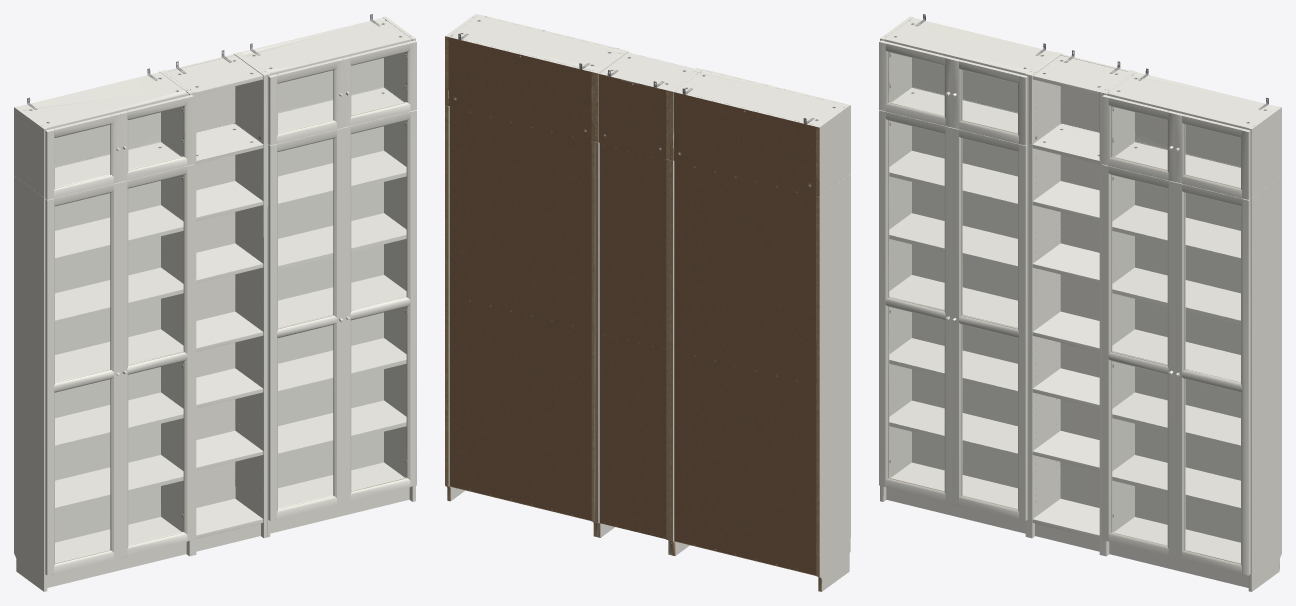
The model's file is billy_oxberg_rega_49017834.glb.
3 renders of one model, left to right at view 1: azimuth 30°, elevation 25°; view 2: azimuth 150°, elevation 25°; view 3: azimuth 330°, elevation 25°, orthographic.
Visible parts, largest first — view 1: billy_oxberg_rega_49017834; view 2: billy_oxberg_rega_49017834; view 3: billy_oxberg_rega_49017834.
Part boxes in pixels (x1,y1,x2,y2): billy_oxberg_rega_49017834: (14,14,416,591); billy_oxberg_rega_49017834: (445,14,850,591); billy_oxberg_rega_49017834: (879,14,1281,591).
Bounding box in the file's own units: 1.99 × 2.4 × 0.3204.
Materials: 2 (1 with a texture image).
